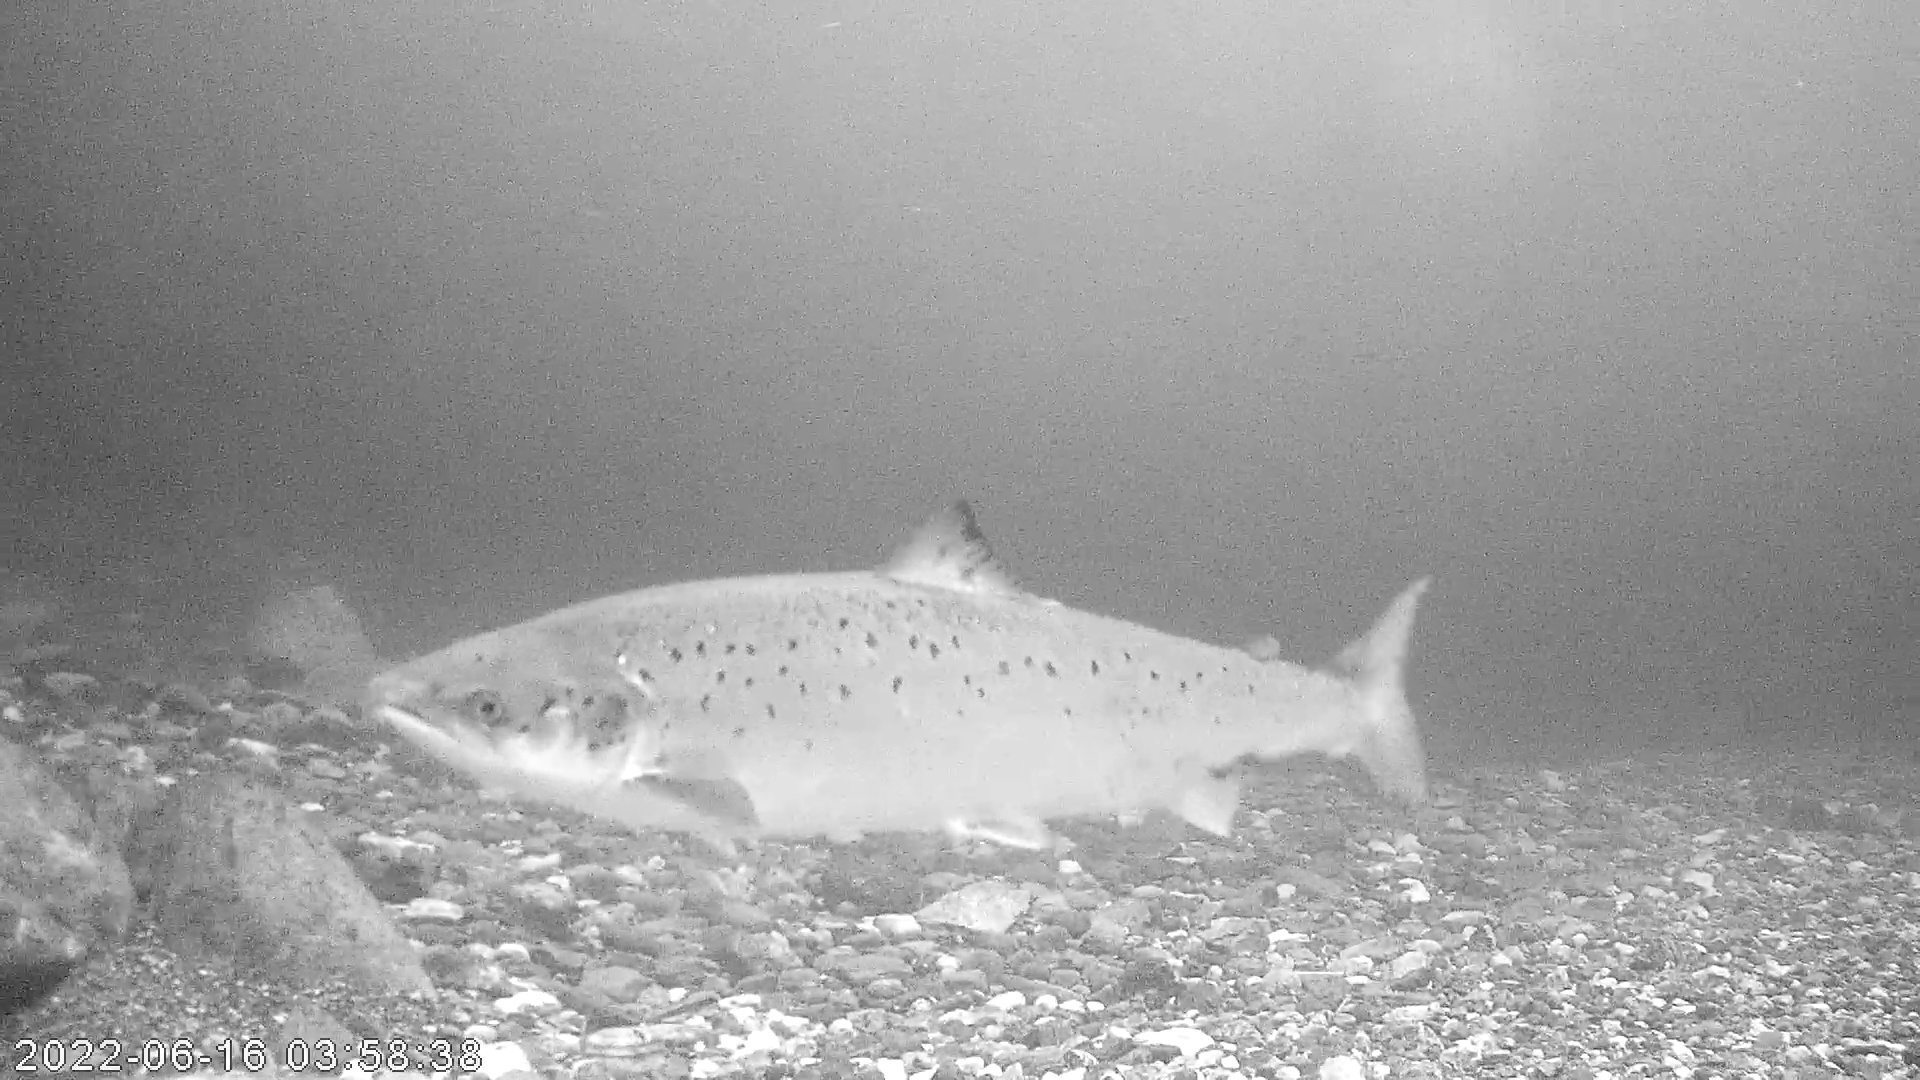salmon: (367, 493, 1436, 852)
